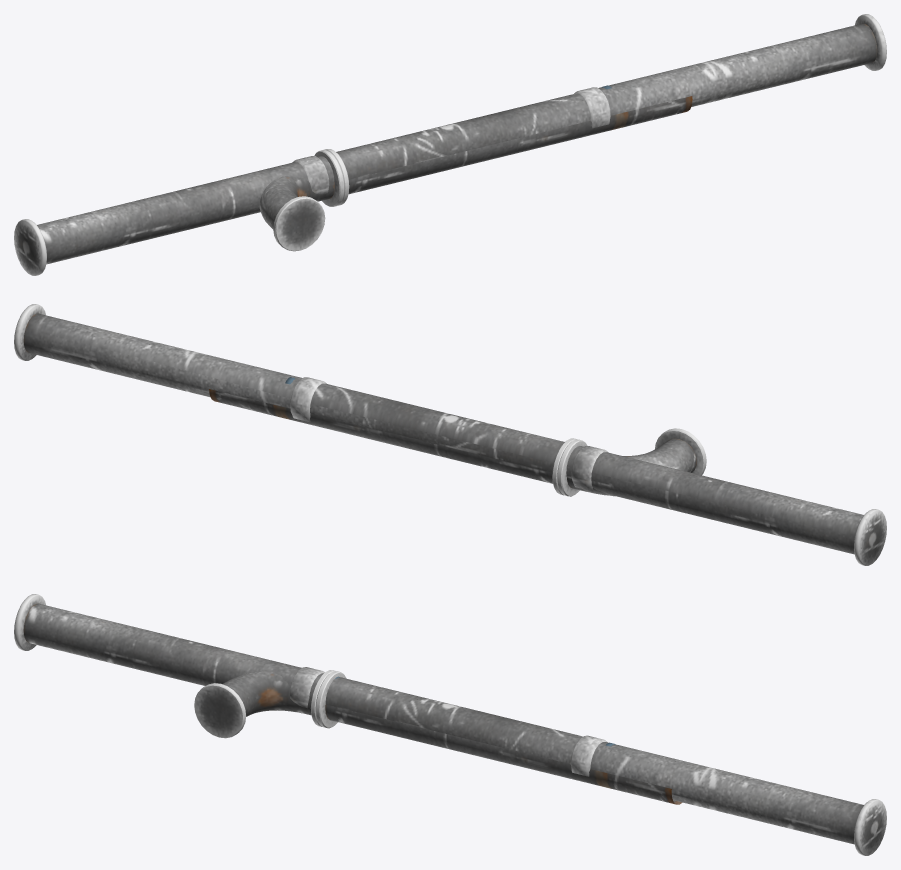
Rendered from piepboot.fbx.
The picture shows the model from 3 angles, top to bottom: view 1: azimuth 30°, elevation 25°; view 2: azimuth 150°, elevation 25°; view 3: azimuth 330°, elevation 25°; orthographic projection.
Visible parts, largest first — view 1: piepboot_1, piepboot_2; view 2: piepboot_1, piepboot_2; view 3: piepboot_1, piepboot_2.
Boxes of the visible parts, x1,y1,x2,y2 form: piepboot_1: [14, 14, 886, 275]; piepboot_2: [259, 96, 692, 251]; piepboot_1: [14, 304, 886, 565]; piepboot_2: [209, 389, 706, 496]; piepboot_1: [14, 594, 886, 855]; piepboot_2: [194, 670, 682, 804].
Size of the model in its own units: 1383975 by 87067 by 158304.
